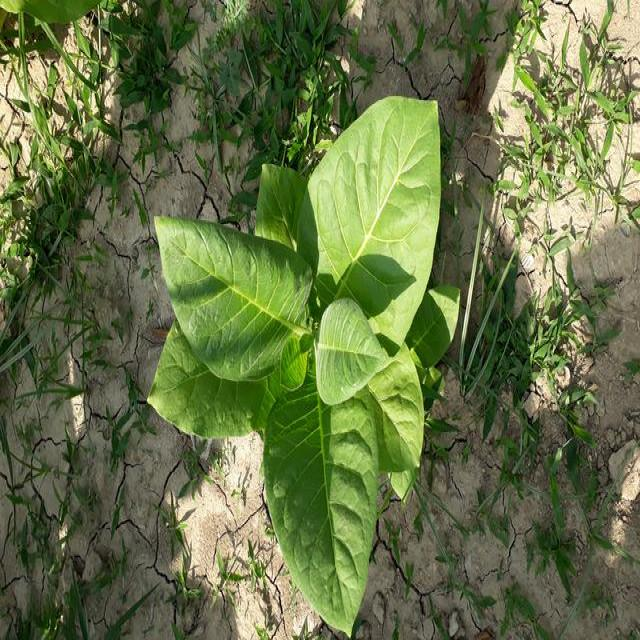crop: (145, 91, 459, 640)
